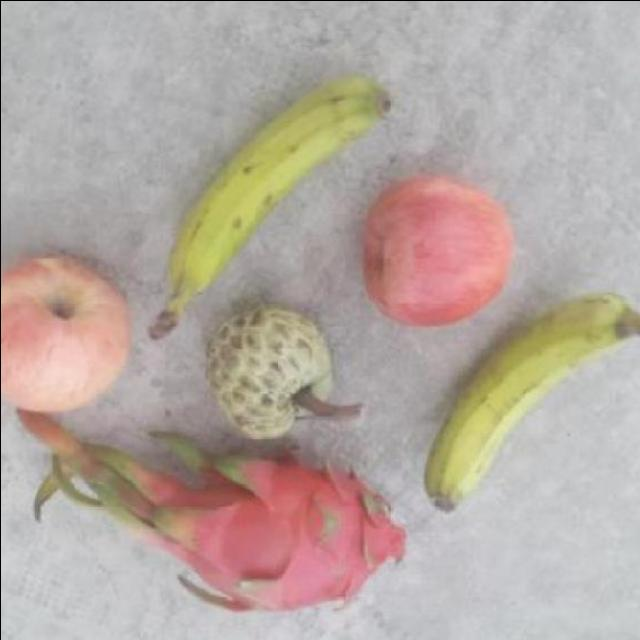apple: (355, 170, 517, 329), (0, 246, 133, 414)
banana: (135, 70, 405, 350), (420, 267, 640, 512)
dragon fruit: (158, 435, 404, 614)
sugar apple: (205, 301, 337, 439)
